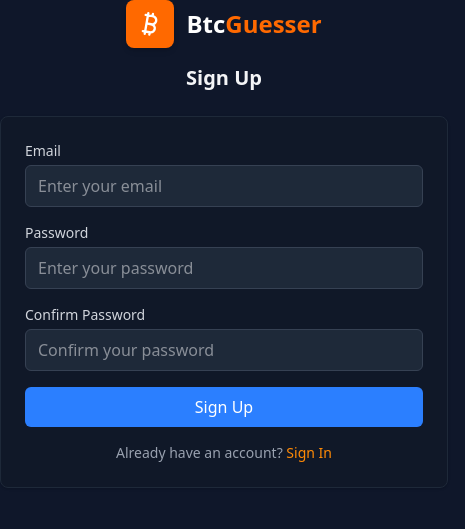
Test: SignUpForm › password validation › should show required message when password is empty after blur
Click the password field labelled "Password" at (224, 268), box [25,247,423,289]
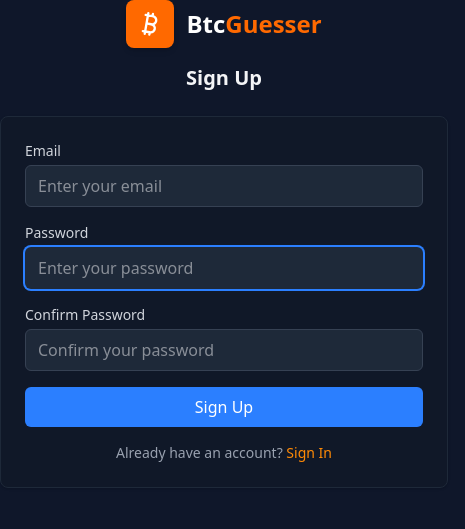
Press Tab
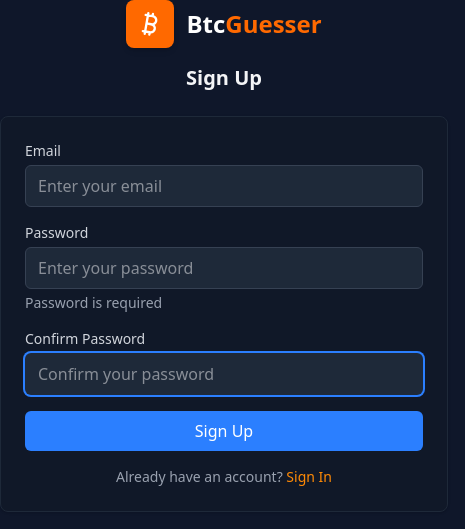
Expected: the text "Password is required" is shown, [25,293,162,312]
